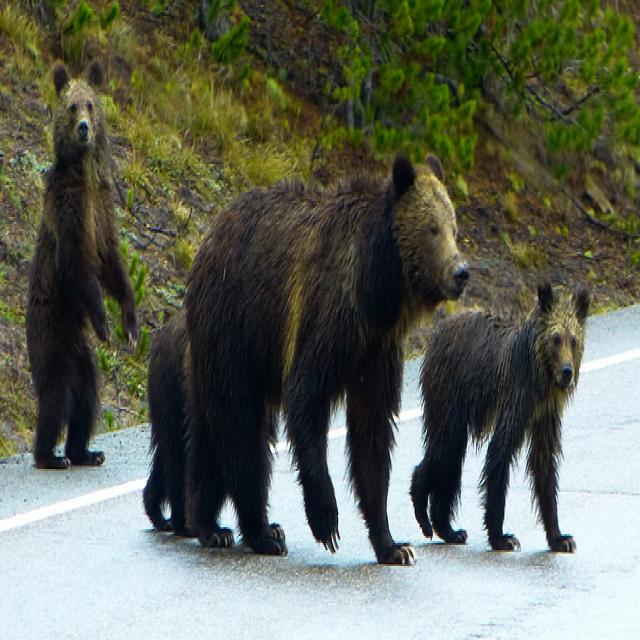Bear: (184, 145, 475, 583), (30, 53, 142, 494), (417, 276, 597, 550)
